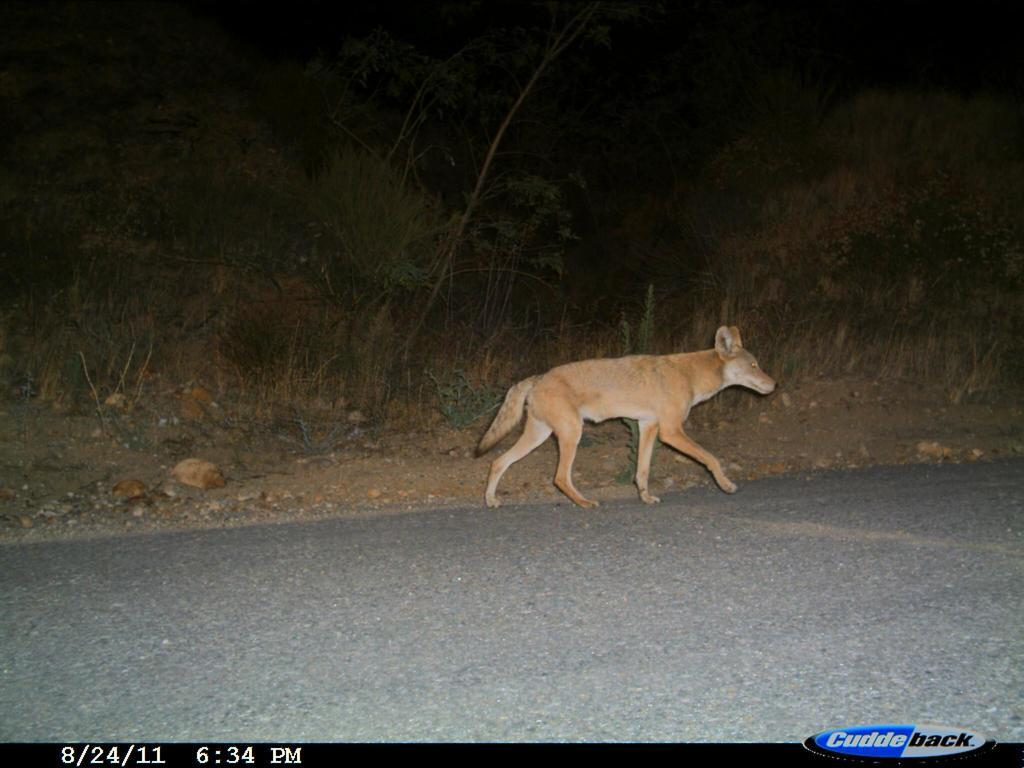coyote: (463, 317, 783, 519)
